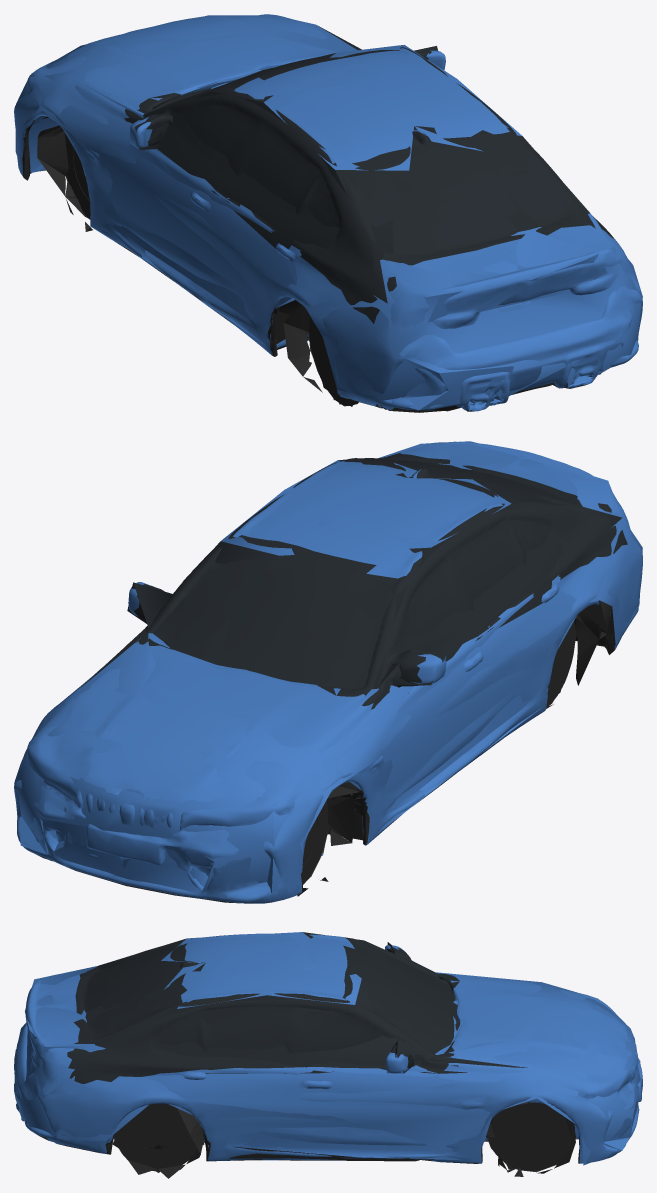
Rendered from bmw-3-series.glb.
The picture shows the model from 3 angles, top to bottom: view 1: azimuth 30°, elevation 25°; view 2: azimuth 150°, elevation 25°; view 3: azimuth 270°, elevation 25°; orthographic projection. The views are drawn at different scales.
Parts seen in each view (by area): view 1: body, far; view 2: body, far; view 3: body, far.
Part boxes in pixels (x1,y1,x2,y2): body: (14,14,642,412); far: (15,15,642,410); body: (14,441,642,903); far: (14,441,642,896); body: (14,933,642,1178); far: (14,932,640,1174).
Size of the model in its own units: 2.08 by 1.49 by 4.82.
